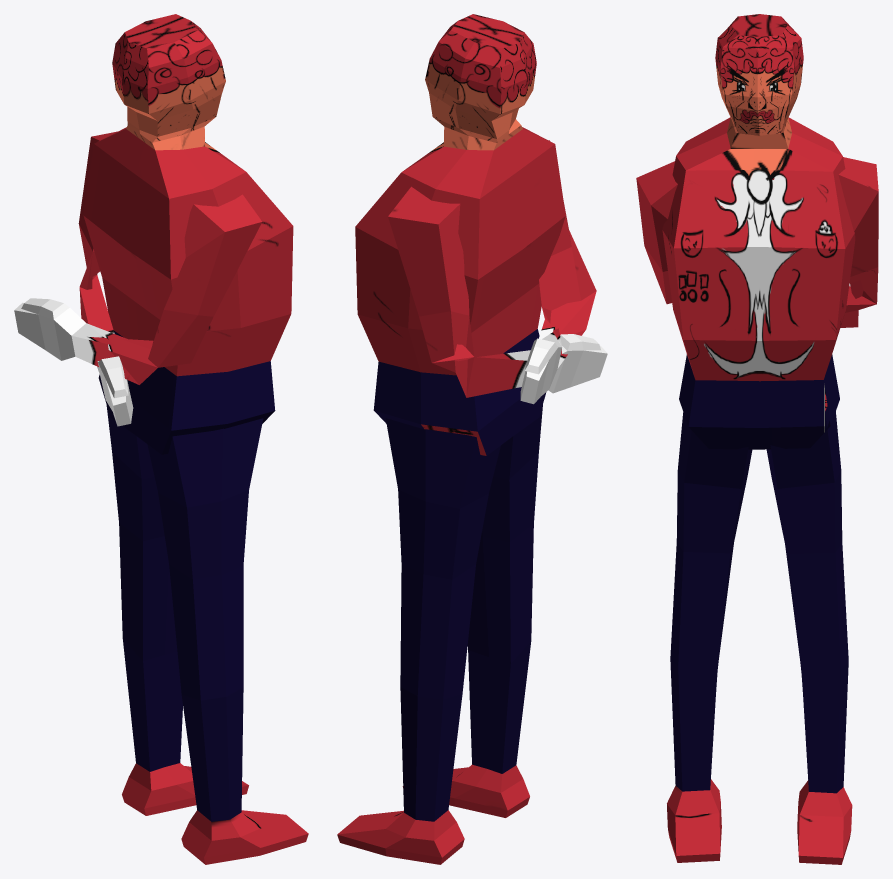
Rendered from BrasDansLeDos.fbx.
The picture shows the model from 3 angles, left to right: view 1: azimuth 30°, elevation 25°; view 2: azimuth 150°, elevation 25°; view 3: azimuth 270°, elevation 25°; orthographic projection. The views are drawn at different scales.
Parts seen in each view (by area): view 1: Cube.001; view 2: Cube.001; view 3: Cube.001.
Boxes of the visible parts, x1,y1,x2,y2 form: Cube.001: (14,14,308,864); Cube.001: (337,14,607,864); Cube.001: (636,14,878,864).
Size of the model in its own units: 119 by 443 by 123.
